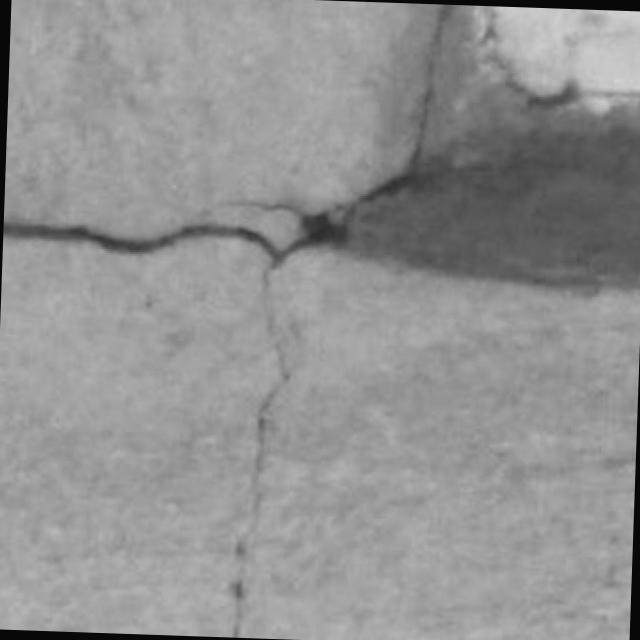crack: (313, 132, 640, 288), (232, 264, 291, 637), (3, 221, 280, 259), (480, 6, 583, 108), (406, 4, 456, 172)
